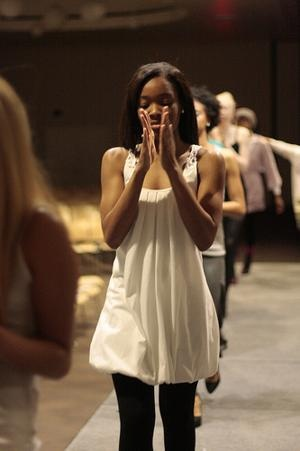person without safety: (91, 60, 224, 451)
